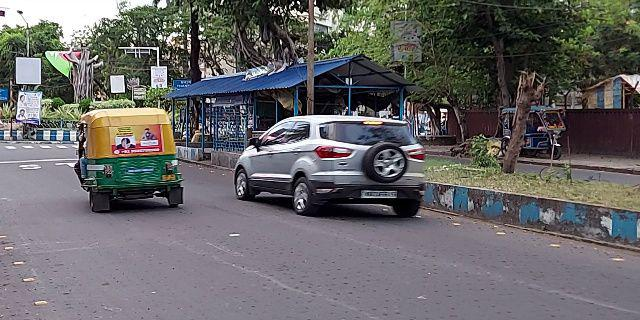Autorickshaw: (72, 107, 188, 212)
Car: (236, 111, 440, 224)
